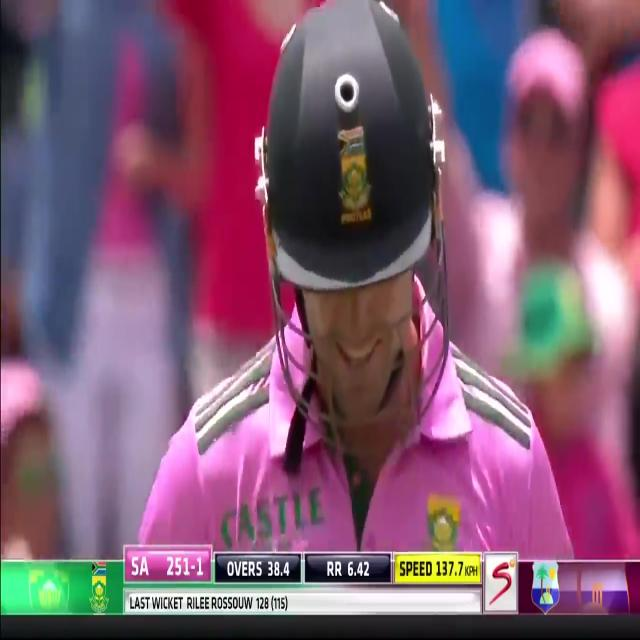Ball: (143, 1, 576, 554)
